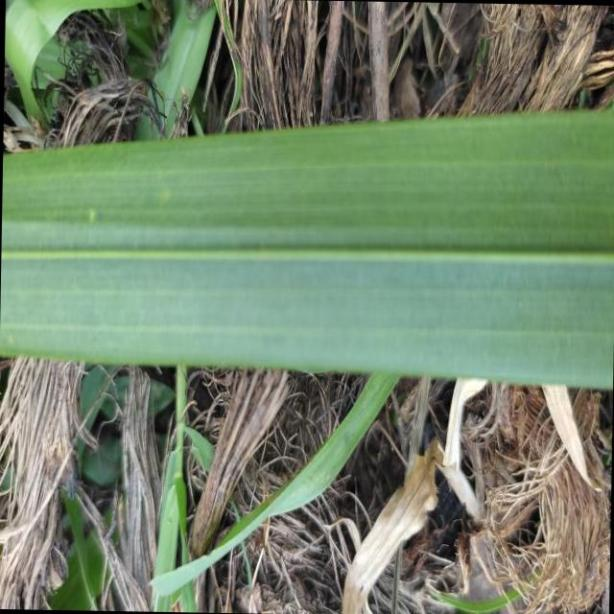Healthy: (0, 109, 614, 393)
